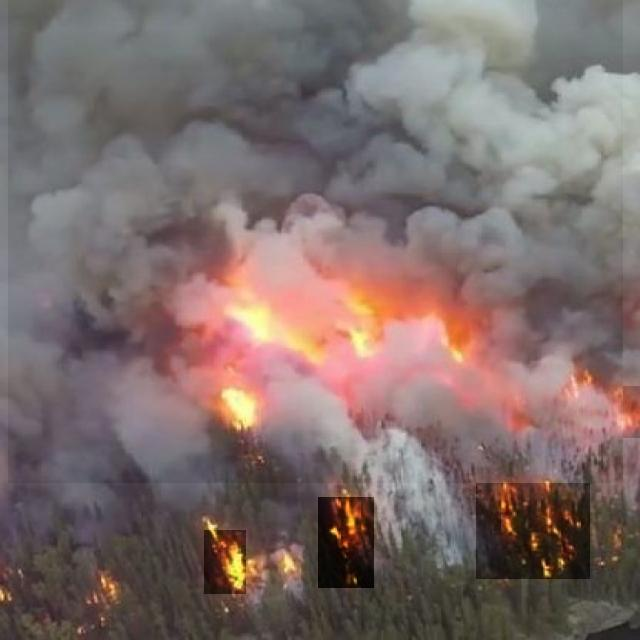Fire: (476, 481, 590, 579), (329, 288, 397, 371), (318, 497, 374, 588), (221, 288, 298, 353), (208, 376, 266, 434), (204, 530, 246, 594), (595, 386, 640, 438), (425, 331, 477, 370), (550, 361, 604, 396)
Smoke: (8, 0, 623, 483)
